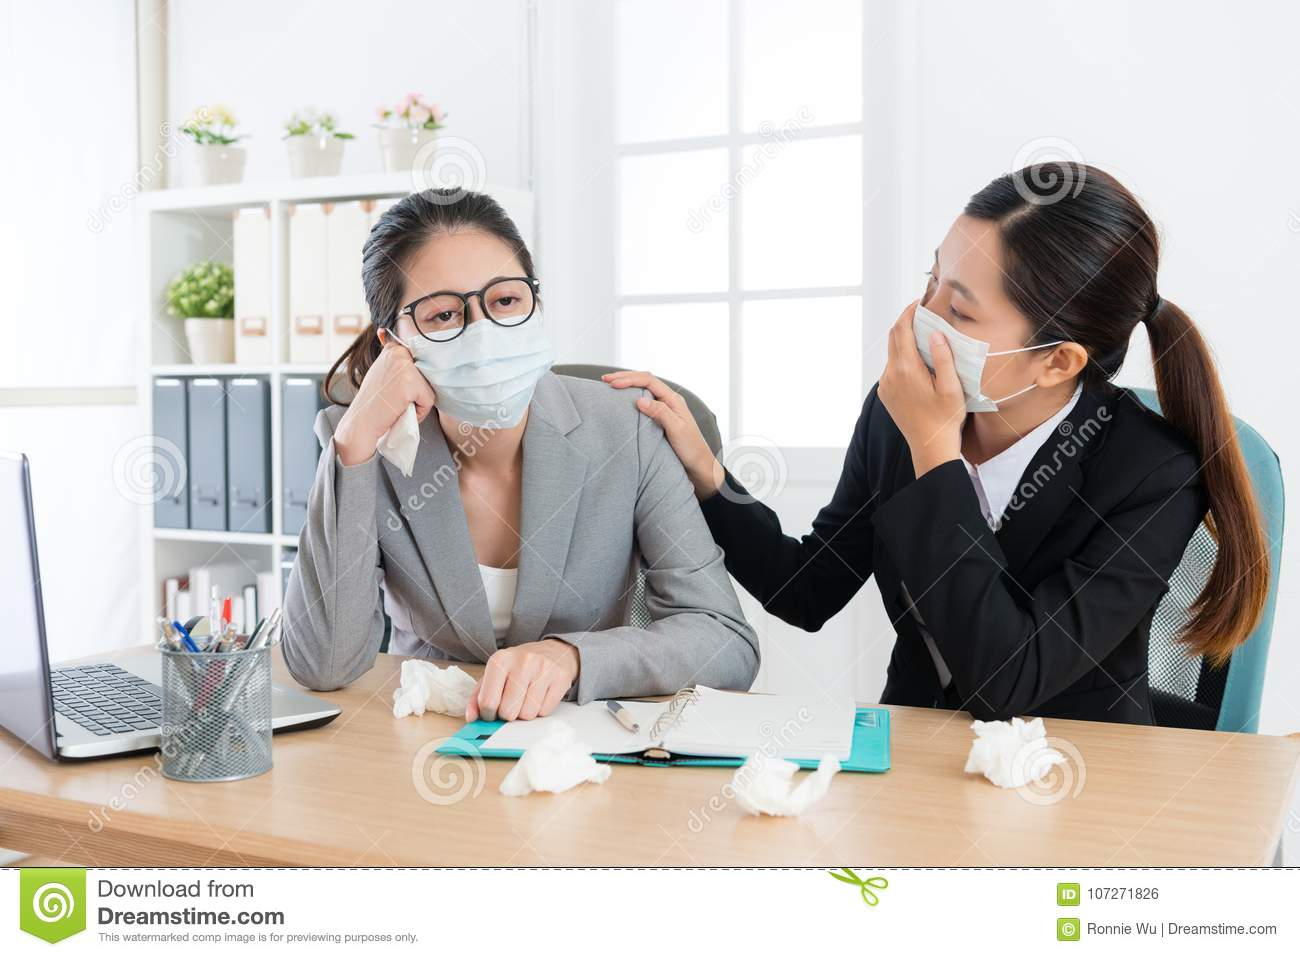mask: (409, 317, 551, 430)
